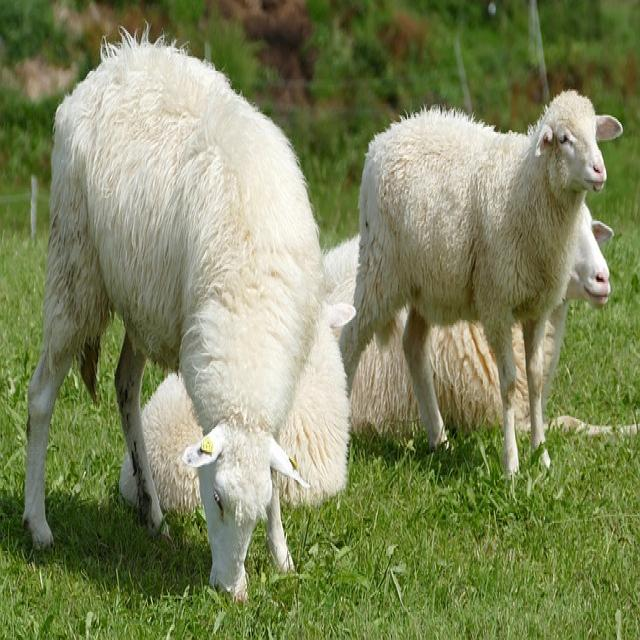goat: (23, 33, 351, 605), (338, 91, 625, 478)
